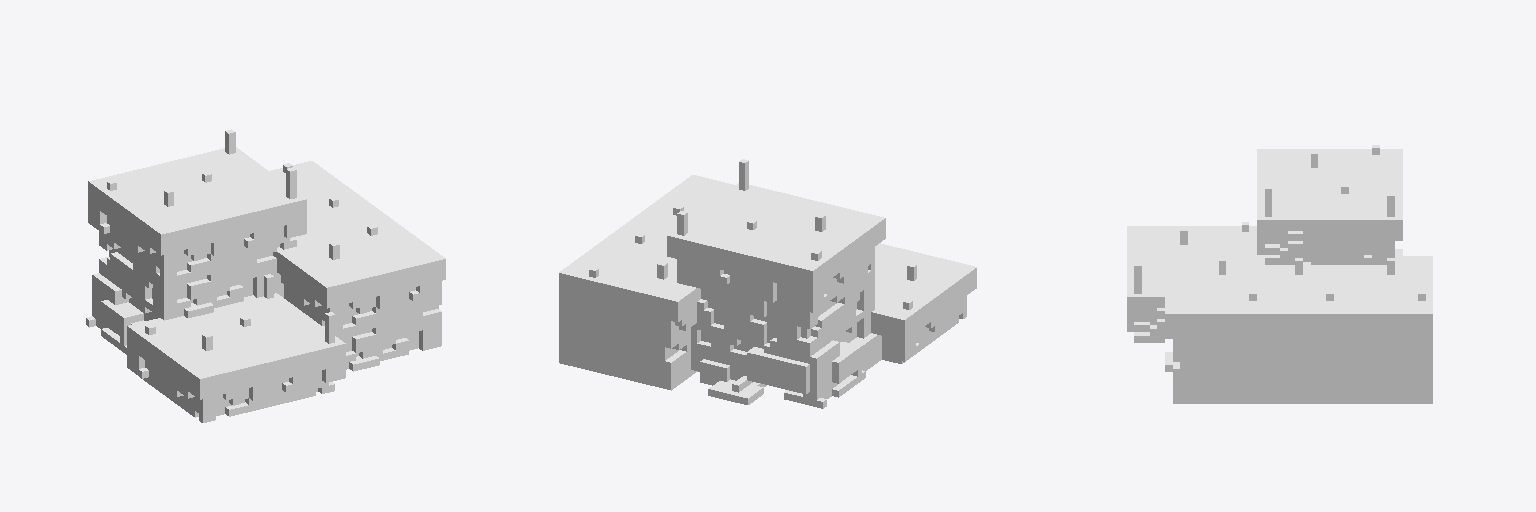
Rendered from Grn2.obj.
3 renders of one model, left to right at view 1: azimuth 30°, elevation 25°; view 2: azimuth 150°, elevation 25°; view 3: azimuth 270°, elevation 25°, orthographic.
Parts seen in each view (by area): view 1: Grn2; view 2: Grn2; view 3: Grn2.
Part boxes in pixels (x1,y1,x2,y2): Grn2: (86,129,445,422); Grn2: (559,159,976,408); Grn2: (1127,145,1432,403).
Size of the model in its own units: 40 by 24 by 40.